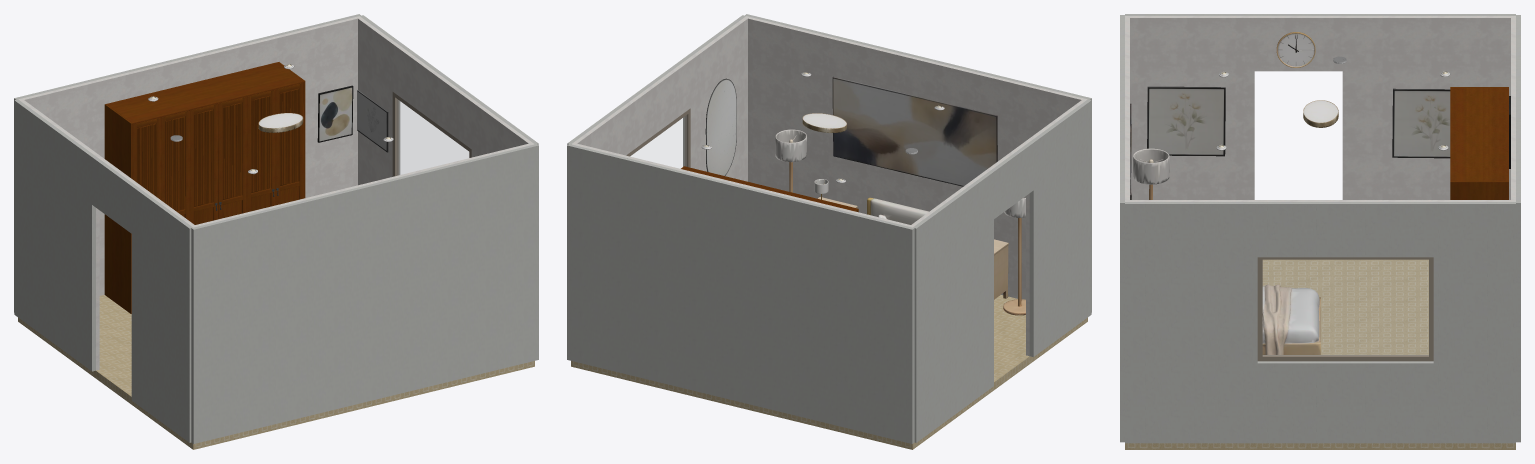
File: scene_web.glb
The picture shows the model from 3 angles, left to right: view 1: azimuth 30°, elevation 25°; view 2: azimuth 150°, elevation 25°; view 3: azimuth 270°, elevation 25°; orthographic projection. The views are drawn at different scales.
Visible parts, largest first — view 1: geometry_0.003, geometry_0.007, geometry_0, geometry_0.004, P_1475bb54bce7585f.001, Mesh_0, P_ded575aaa475c7a0.001, P_200d05c50dc21da0.001, P_f71ccff79b6ab3a0.001, glass, P_ba71c252d1d00a3e.001, P_a99e0b1c986b3148.001 (+9 smaller); view 2: geometry_0.001, geometry_0.007, geometry_0.002, geometry_0.013, geometry_0.004, Mesh_0, geometry_0.015, glass, geometry_0.006, geometry_0.003, geometry_0.011, geometry_0.012 (+7 smaller); view 3: geometry_0.005, geometry_0.006, glass, Mesh_0, P_1475bb54bce7585f.001, geometry_0.018, geometry_0.017, geometry_0.012, frame, geometry_0.001, geometry_0.003, geometry_0.010 (+6 smaller).
Part boxes in pixels (bbox=[...]): geometry_0.003: bbox=[191, 144, 538, 443]; geometry_0.007: bbox=[14, 99, 192, 442]; geometry_0: bbox=[22, 17, 357, 295]; geometry_0.004: bbox=[356, 16, 534, 185]; P_1475bb54bce7585f.001: bbox=[104, 62, 305, 313]; Mesh_0: bbox=[18, 295, 534, 449]; P_ded575aaa475c7a0.001: bbox=[218, 97, 246, 219]; P_200d05c50dc21da0.001: bbox=[189, 104, 217, 224]; P_f71ccff79b6ab3a0.001: bbox=[246, 90, 275, 212]; glass: bbox=[396, 99, 468, 175]; P_ba71c252d1d00a3e.001: bbox=[275, 83, 303, 205]; P_a99e0b1c986b3148.001: bbox=[161, 111, 189, 220]; geometry_0.001: bbox=[567, 144, 914, 443]; geometry_0.007: bbox=[913, 99, 1091, 442]; geometry_0.002: bbox=[748, 17, 1083, 299]; geometry_0.013: bbox=[832, 76, 997, 186]; geometry_0.004: bbox=[571, 16, 749, 181]; Mesh_0: bbox=[571, 295, 1087, 449]; geometry_0.015: bbox=[705, 78, 736, 175]; glass: bbox=[631, 115, 686, 168]; geometry_0.006: bbox=[909, 98, 1087, 355]; geometry_0.003: bbox=[745, 14, 1091, 312]; geometry_0.011: bbox=[775, 129, 806, 192]; geometry_0.012: bbox=[867, 197, 928, 224]; geometry_0.005: bbox=[1125, 202, 1515, 443]; geometry_0.006: bbox=[1125, 16, 1515, 199]; glass: bbox=[1263, 260, 1428, 355]; Mesh_0: bbox=[1125, 259, 1515, 449]; P_1475bb54bce7585f.001: bbox=[1450, 87, 1508, 199]; geometry_0.018: bbox=[1147, 86, 1225, 156]; geometry_0.017: bbox=[1392, 88, 1450, 158]; geometry_0.012: bbox=[1262, 284, 1320, 354]; frame: bbox=[1257, 257, 1433, 361]; geometry_0.001: bbox=[1516, 15, 1520, 442]; geometry_0.003: bbox=[1120, 15, 1124, 442]; geometry_0.010: bbox=[1133, 148, 1169, 199].
Size of the model in its own units: 4.6 by 2.8 by 4.1.
22 materials, 19 textured.
